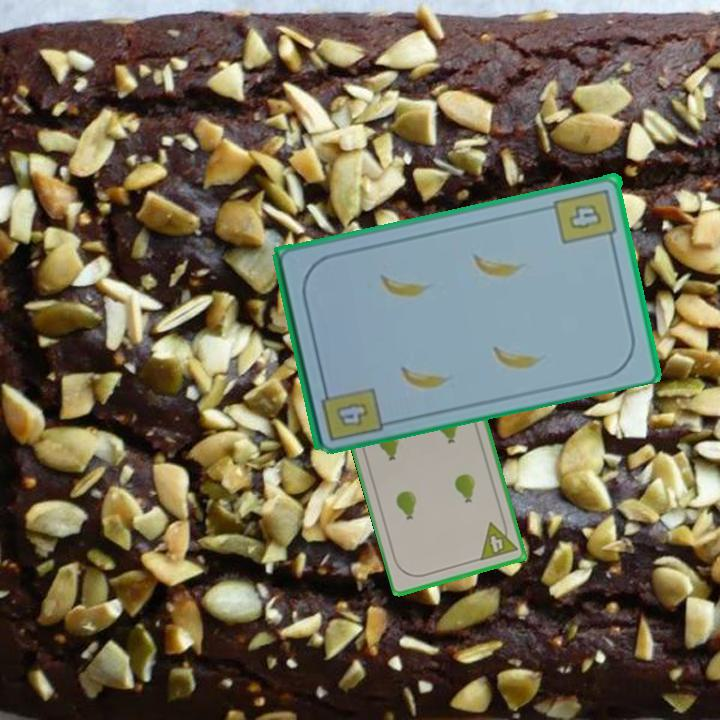4b: (317, 379, 385, 444), (551, 185, 620, 247)
4p: (477, 515, 520, 564)
